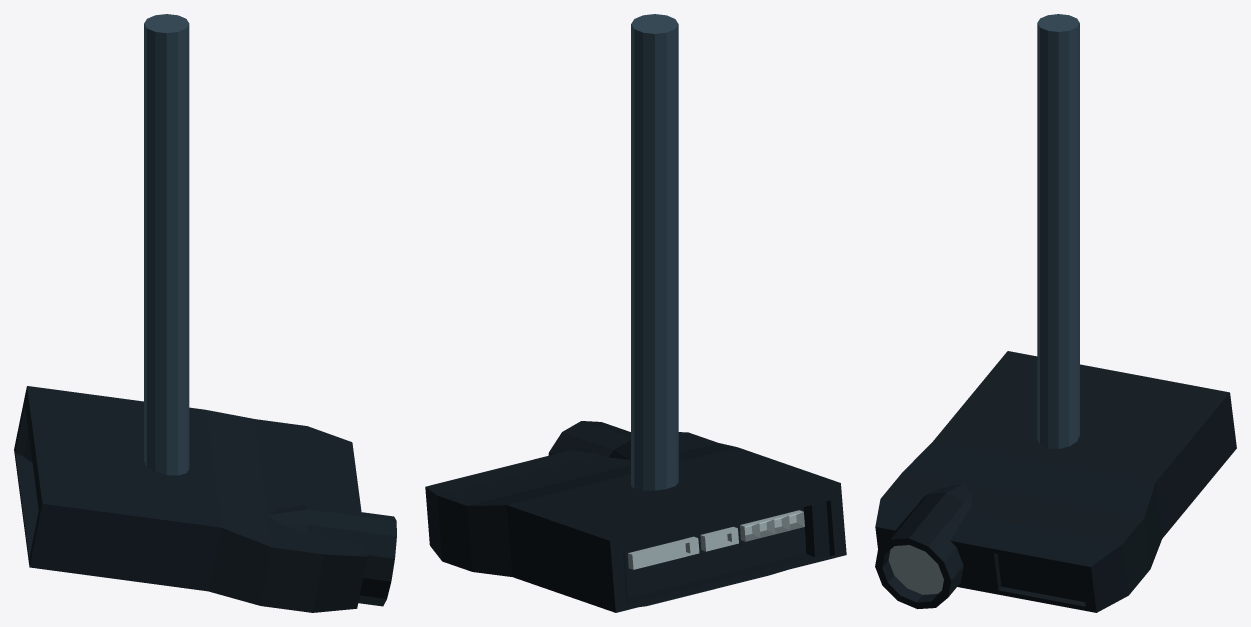
Rendered from Projector.obj.
3 renders of one model, left to right at view 1: azimuth 30°, elevation 25°; view 2: azimuth 150°, elevation 25°; view 3: azimuth 270°, elevation 25°, orthographic. The views are drawn at different scales.
Visible parts, largest first — view 1: group250023242, group2107329488; view 2: group250023242, group2107329488; view 3: group250023242, group2107329488.
Part boxes in pixels (x1,y1,x2,y2): group250023242: (14,386,396,612); group2107329488: (144,14,189,475); group250023242: (425,421,846,612); group2107329488: (631,14,678,490); group250023242: (875,351,1236,612); group2107329488: (1037,14,1079,449).
Size of the model in its own units: 0.5541 by 0.811 by 0.509.
